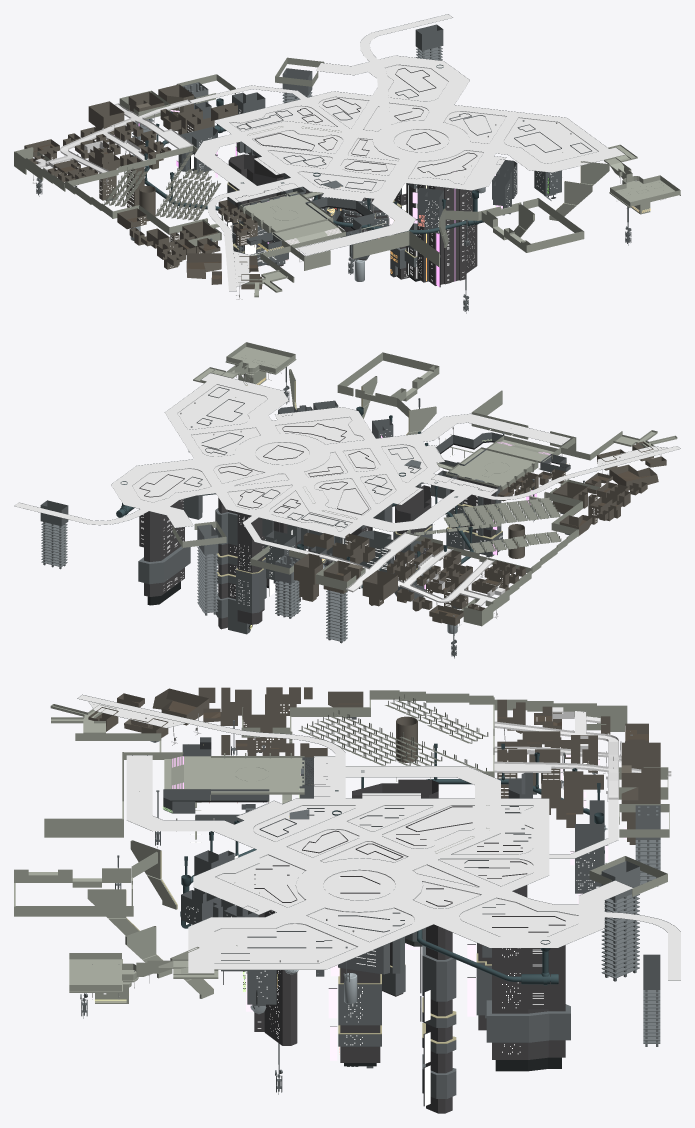
Rendered from city2.gltf.
3 views of the same model, one above another, from view 1: azimuth 30°, elevation 25°; view 2: azimuth 150°, elevation 25°; view 3: azimuth 270°, elevation 25° (orthographic). The views are drawn at different scales.
Visible parts, largest first — view 1: Cuberpunk2077.001_0; view 2: Cuberpunk2077.001_0; view 3: Cuberpunk2077.001_0.
Boxes of the visible parts, left/top/right/bottom form: Cuberpunk2077.001_0: left=14, top=14, right=680, bottom=313; Cuberpunk2077.001_0: left=14, top=342, right=680, bottom=658; Cuberpunk2077.001_0: left=14, top=687, right=680, bottom=1113.
Size of the model in its own units: 306 by 104 by 295.
